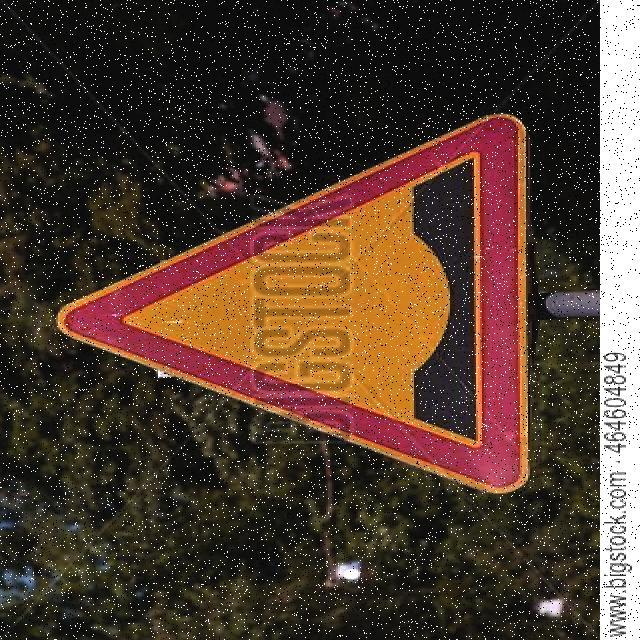Traffic sign: (48, 103, 536, 504)
